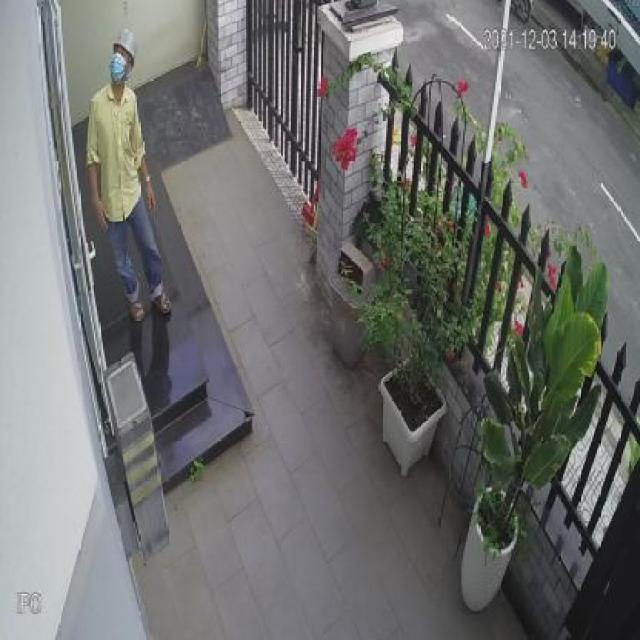Manusia: (85, 29, 172, 322)
